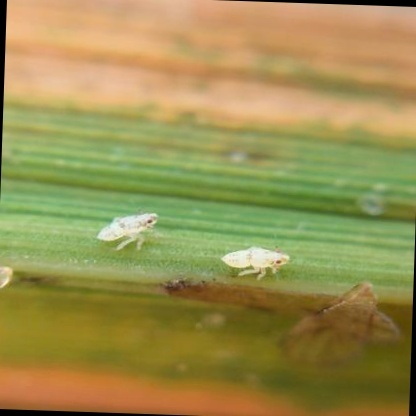Brown_hopper: (63, 201, 166, 267), (197, 233, 307, 290)
